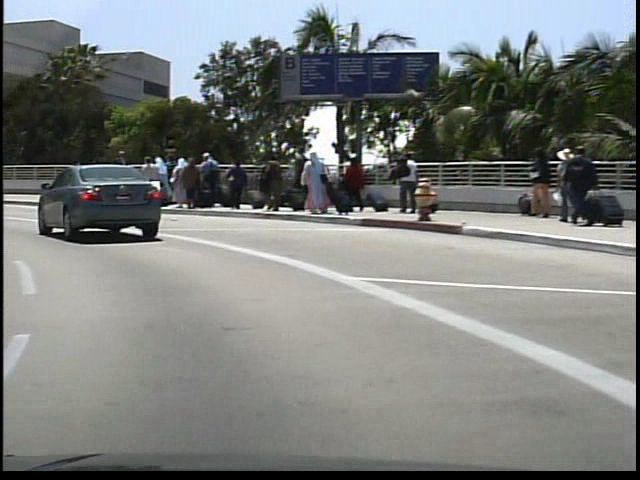person: (553, 142, 594, 227), (71, 151, 99, 212), (392, 147, 417, 215), (108, 147, 135, 208), (136, 153, 154, 207), (77, 156, 96, 197)
